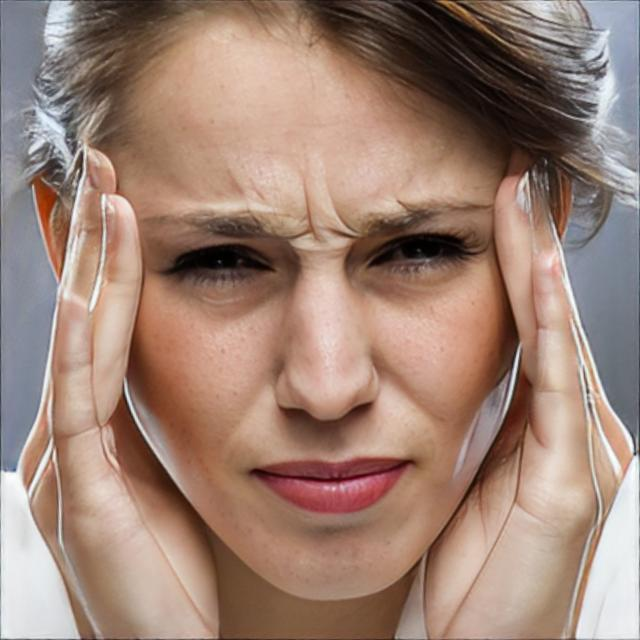anger: (119, 40, 518, 593)
